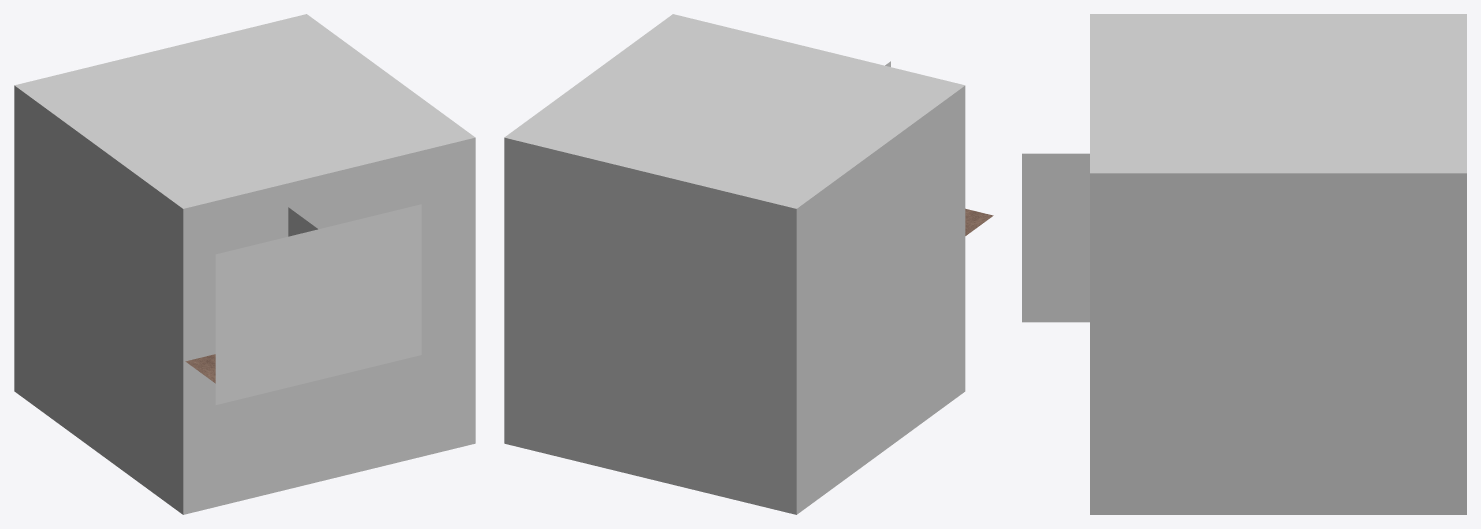
Rendered from Room24.glb.
3 views of the same model, side by side, from view 1: azimuth 30°, elevation 25°; view 2: azimuth 150°, elevation 25°; view 3: azimuth 270°, elevation 25° (orthographic). The views are drawn at different scales.
Parts seen in each view (by area): view 1: Fog, Plane.003; view 2: Fog; view 3: Fog, Wall-1.
Boxes of the visible parts, x1,y1,x2,y2 form: Fog: [14, 14, 475, 514]; Plane.003: [215, 204, 421, 404]; Fog: [504, 14, 965, 514]; Fog: [1090, 14, 1466, 514]; Wall-1: [1022, 153, 1089, 322].
Bounding box in the file's own units: 14.2 × 14.2 × 16.76.
Materials: 4 (1 with a texture image).
